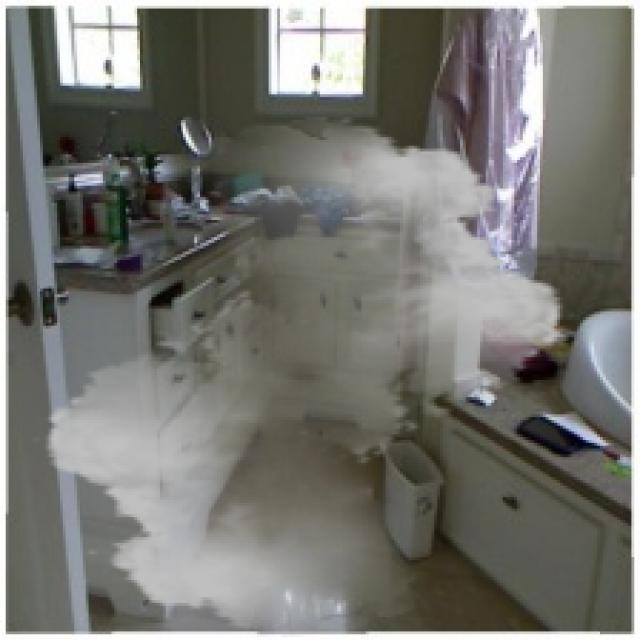smoke: (29, 117, 580, 637)
